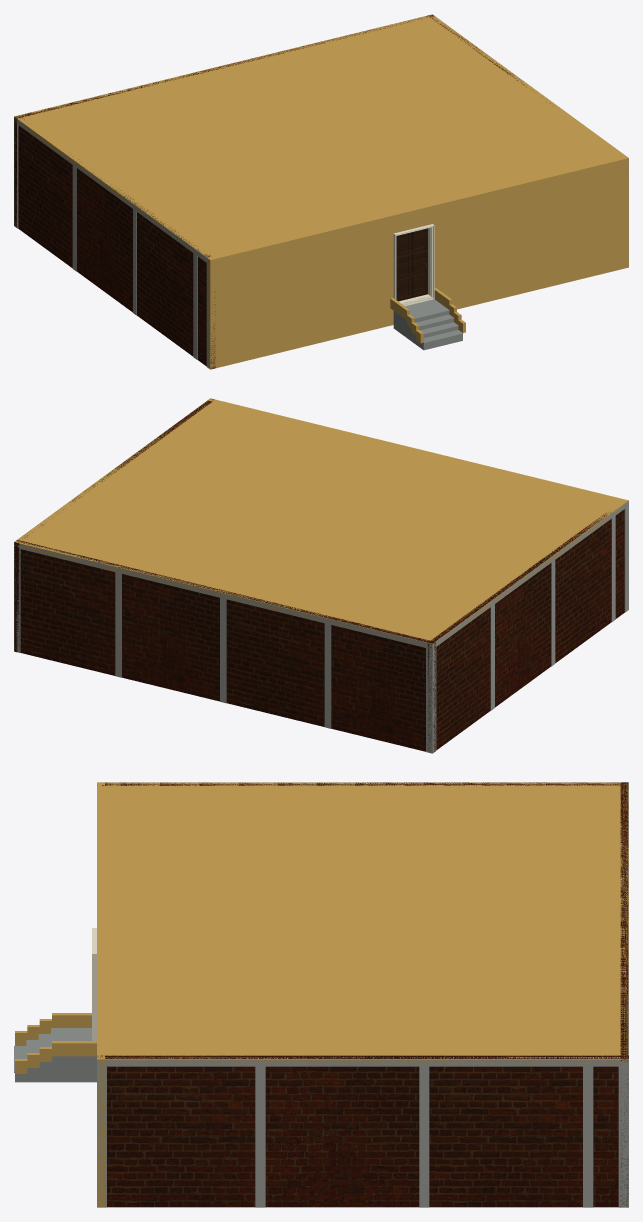
Rendered from building.glb.
3 renders of one model, top to bottom at view 1: azimuth 30°, elevation 25°; view 2: azimuth 150°, elevation 25°; view 3: azimuth 270°, elevation 25°, orthographic. The views are drawn at different scales.
Parts seen in each view (by area): view 1: roof/house:0/roof_slab#0001, house:0/edge0/z0/house:0/edge0/z0/wall_0_0, house:0/edge3/z0/house:0/edge3/z0/wall_0_0, entrance/gradas_con_mejillas/entrance_steps#0001, house:0/edge2/z0/house:0/edge2/z0/wall_0_0, house:0/edge3/z0/house:0/edge3/z0/beam_0_0, house:0/edge3/z0/house:0/edge3/z0/column_2_0, house:0/edge3/z0/house:0/edge3/z0/column_4_0; view 2: roof/house:0/roof_slab#0001, house:0/edge2/z0/house:0/edge2/z0/wall_0_0, house:0/edge3/z0/house:0/edge3/z0/wall_0_0, house:0/edge2/z0/house:0/edge2/z0/beam_0_0, house:0/edge0/z0/house:0/edge0/z0/wall_0_0, house:0/edge3/z0/house:0/edge3/z0/beam_0_0, house:0/edge1/z0/house:0/edge1/z0/wall_0_0, house:0/edge2/z0/house:0/edge2/z0/column_4_0, house:0/edge2/z0/house:0/edge2/z0/column_2_0, house:0/edge2/z0/house:0/edge2/z0/column_1_0, house:0/edge2/z0/house:0/edge2/z0/column_3_0, house:0/edge3/z0/house:0/edge3/z0/column_1_0 (+3 smaller); view 3: roof/house:0/roof_slab#0001, house:0/edge1/z0/house:0/edge1/z0/wall_0_0, house:0/edge1/z0/house:0/edge1/z0/beam_0_0, house:0/edge0/z0/house:0/edge0/z0/wall_0_0, entrance/gradas_con_mejillas/entrance_steps#0001, house:0/edge2/z0/house:0/edge2/z0/wall_0_0, house:0/edge1/z0/house:0/edge1/z0/column_2_0, house:0/edge1/z0/house:0/edge1/z0/column_1_0, house:0/edge1/z0/house:0/edge1/z0/column_3_0, house:0/edge1/z0/house:0/edge1/z0/column_4_0, house:0/edge3/z0/house:0/edge3/z0/wall_0_0, entrance/gradas_con_mejillas/entrance_side#0002 (+2 smaller).
Boxes of the visible parts, box(x1,y1,x2,y2) form: roof/house:0/roof_slab#0001: box(14, 14, 628, 262); house:0/edge0/z0/house:0/edge0/z0/wall_0_0: box(207, 157, 628, 369); house:0/edge3/z0/house:0/edge3/z0/wall_0_0: box(18, 118, 215, 368); entrance/gradas_con_mejillas/entrance_steps#0001: box(393, 299, 462, 350); house:0/edge2/z0/house:0/edge2/z0/wall_0_0: box(14, 15, 433, 227); house:0/edge3/z0/house:0/edge3/z0/beam_0_0: box(15, 117, 209, 263); house:0/edge3/z0/house:0/edge3/z0/column_2_0: box(72, 165, 76, 271); house:0/edge3/z0/house:0/edge3/z0/column_4_0: box(193, 253, 197, 359); roof/house:0/roof_slab#0001: box(14, 399, 628, 647); house:0/edge2/z0/house:0/edge2/z0/wall_0_0: box(16, 540, 435, 752); house:0/edge3/z0/house:0/edge3/z0/wall_0_0: box(427, 509, 624, 751); house:0/edge2/z0/house:0/edge2/z0/beam_0_0: box(14, 542, 432, 649); house:0/edge0/z0/house:0/edge0/z0/wall_0_0: box(207, 398, 628, 608); house:0/edge3/z0/house:0/edge3/z0/beam_0_0: box(432, 500, 628, 648); house:0/edge1/z0/house:0/edge1/z0/wall_0_0: box(14, 399, 213, 652); house:0/edge2/z0/house:0/edge2/z0/column_4_0: box(324, 623, 331, 728); house:0/edge2/z0/house:0/edge2/z0/column_2_0: box(115, 572, 121, 677); house:0/edge2/z0/house:0/edge2/z0/column_1_0: box(426, 648, 432, 753); house:0/edge2/z0/house:0/edge2/z0/column_3_0: box(220, 598, 226, 703); house:0/edge3/z0/house:0/edge3/z0/column_1_0: box(624, 506, 628, 612); roof/house:0/roof_slab#0001: box(97, 782, 628, 1063); house:0/edge1/z0/house:0/edge1/z0/wall_0_0: box(97, 1055, 628, 1207); house:0/edge1/z0/house:0/edge1/z0/beam_0_0: box(97, 1059, 628, 1066); house:0/edge0/z0/house:0/edge0/z0/wall_0_0: box(97, 782, 104, 1207); entrance/gradas_con_mejillas/entrance_steps#0001: box(15, 1028, 96, 1082); house:0/edge2/z0/house:0/edge2/z0/wall_0_0: box(620, 782, 628, 1207); house:0/edge1/z0/house:0/edge1/z0/column_2_0: box(255, 1066, 265, 1207); house:0/edge1/z0/house:0/edge1/z0/column_1_0: box(618, 1066, 628, 1207); house:0/edge1/z0/house:0/edge1/z0/column_3_0: box(419, 1066, 429, 1207); house:0/edge1/z0/house:0/edge1/z0/column_4_0: box(583, 1066, 593, 1207); house:0/edge3/z0/house:0/edge3/z0/wall_0_0: box(97, 782, 620, 785); entrance/gradas_con_mejillas/entrance_side#0002: box(15, 1041, 96, 1073).
Bounding box in the file's own units: 16 × 4.12 × 15.03.
7 materials, 2 textured.
